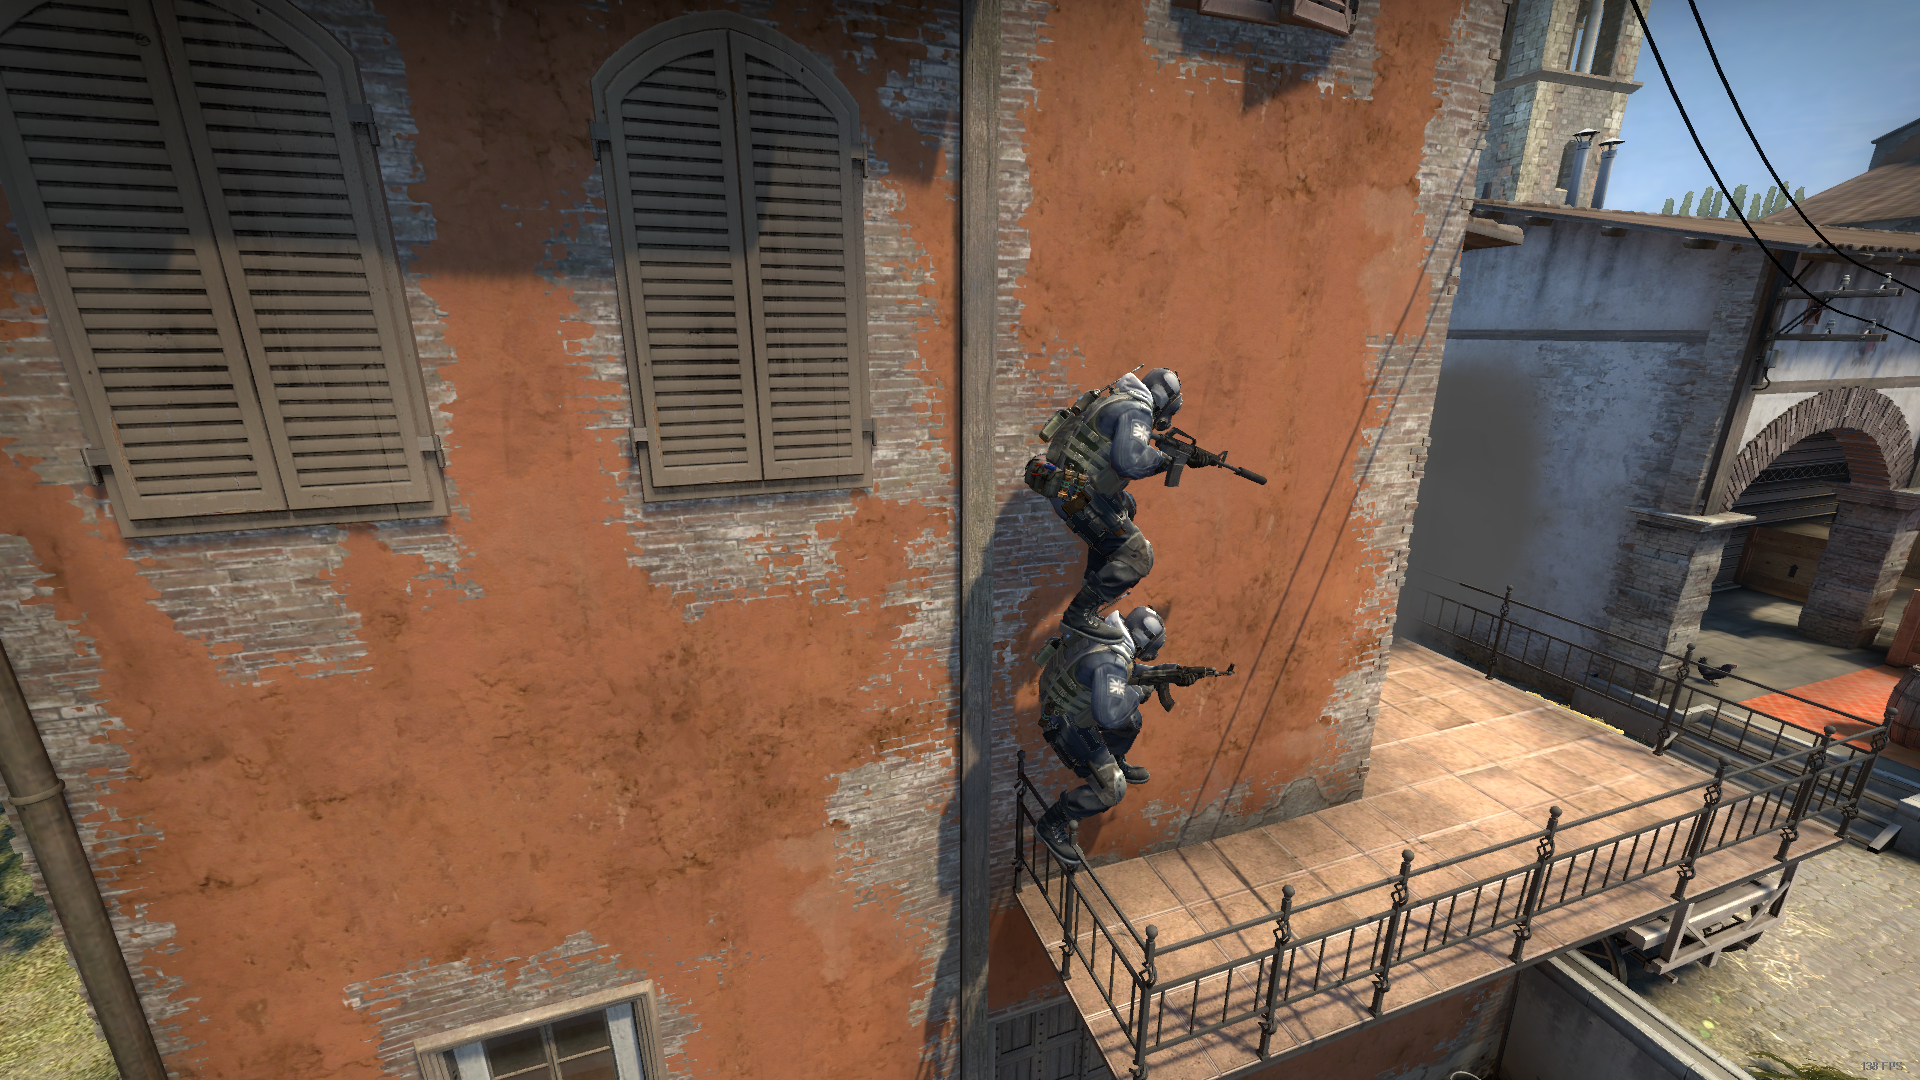ct: (1036, 357, 1200, 640), (1021, 603, 1164, 866)
